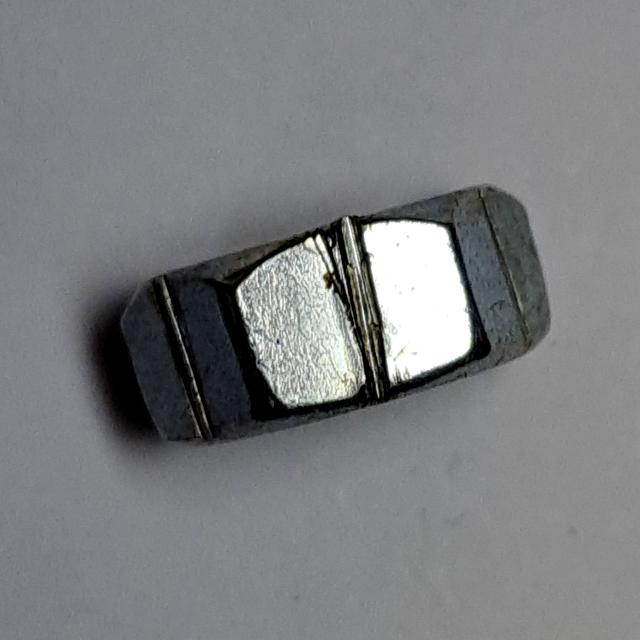Side_Scratches: (113, 162, 566, 463)
